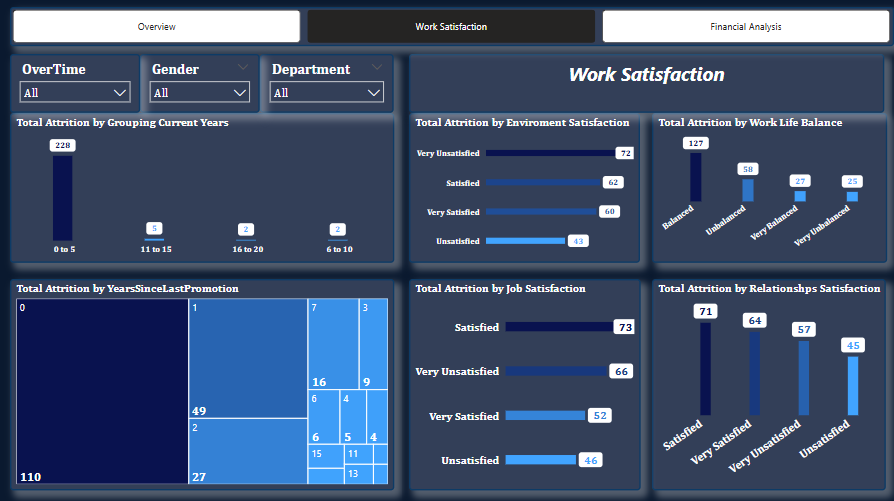

This screenshot's page, from the dashboard's own definition file:
{"tool":"powerbi","page":{"name":"Work Satisfaction","canvas":[1280,720],"ordinal":1},"visuals":[{"type":"columnChart","fields":{"Category":["HR-Employee-Attrition.Relationshps Satisfaction"],"Y":["HR-Employee-Attrition.Total Attrition"]},"box":[934.4,403.3,334.4,301.6],"z":0},{"type":"treemap","fields":{"Group":["HR-Employee-Attrition.YearsSinceLastPromotion"],"Values":["HR-Employee-Attrition.Total Attrition"]},"box":[16.5,403.1,549,302.3],"z":1000},{"type":"barChart","title":"Total Attrition by Job Satisfaction","fields":{"Category":["HR-Employee-Attrition.Job Satisfaction"],"Y":["HR-Employee-Attrition.Total Attrition"]},"box":[586.9,403.3,331.1,301.6],"z":2000},{"type":"columnChart","fields":{"Category":["HR-Employee-Attrition.Grouping Current Years"],"Y":["HR-Employee-Attrition.Total Attrition"]},"box":[17.1,165.7,548.6,214.3],"z":3000},{"type":"barChart","fields":{"Category":["HR-Employee-Attrition.Enviroment Satisfaction"],"Y":["HR-Employee-Attrition.Total Attrition"]},"box":[587.1,165.7,330,214.3],"z":4000},{"type":"columnChart","fields":{"Category":["HR-Employee-Attrition.Work Life Balance"],"Y":["HR-Employee-Attrition.Total Attrition"]},"box":[934.3,165.7,335.7,214.3],"z":5000},{"type":"textbox","box":[587.1,81.4,678.6,84.3],"z":5001},{"type":"pageNavigator","box":[17.1,14.3,1262.9,55.7],"z":5002},{"type":"slicer","fields":{"Values":["HR-Employee-Attrition.Department"]},"box":[374.3,81.4,191.4,84.3],"z":5004},{"type":"slicer","fields":{"Values":["HR-Employee-Attrition.Gender"]},"box":[202.9,81.4,171.4,84.3],"z":5005},{"type":"slicer","fields":{"Values":["HR-Employee-Attrition.OverTime"]},"box":[17.1,81.4,185.7,84.3],"z":5006}]}

Visuals, with their boxes in screenshot pixels (x1, y1, x2, y2), scaled from the page's 1280x720 canvas onto the 894x501 screenshot:
columnChart - HR-Employee-Attrition.Relationshps Satisfaction x HR-Employee-Attrition.Total Attrition: select_region(653, 281, 886, 490)
treemap - HR-Employee-Attrition.YearsSinceLastPromotion x HR-Employee-Attrition.Total Attrition: select_region(12, 280, 395, 491)
"Total Attrition by Job Satisfaction" barChart: select_region(410, 281, 641, 490)
columnChart - HR-Employee-Attrition.Grouping Current Years x HR-Employee-Attrition.Total Attrition: select_region(12, 115, 395, 264)
barChart - HR-Employee-Attrition.Enviroment Satisfaction x HR-Employee-Attrition.Total Attrition: select_region(410, 115, 641, 264)
columnChart - HR-Employee-Attrition.Work Life Balance x HR-Employee-Attrition.Total Attrition: select_region(653, 115, 887, 264)
textbox: select_region(410, 57, 884, 115)
pageNavigator: select_region(12, 10, 893, 49)
slicer - HR-Employee-Attrition.Department: select_region(261, 57, 395, 115)
slicer - HR-Employee-Attrition.Gender: select_region(142, 57, 261, 115)
slicer - HR-Employee-Attrition.OverTime: select_region(12, 57, 142, 115)
